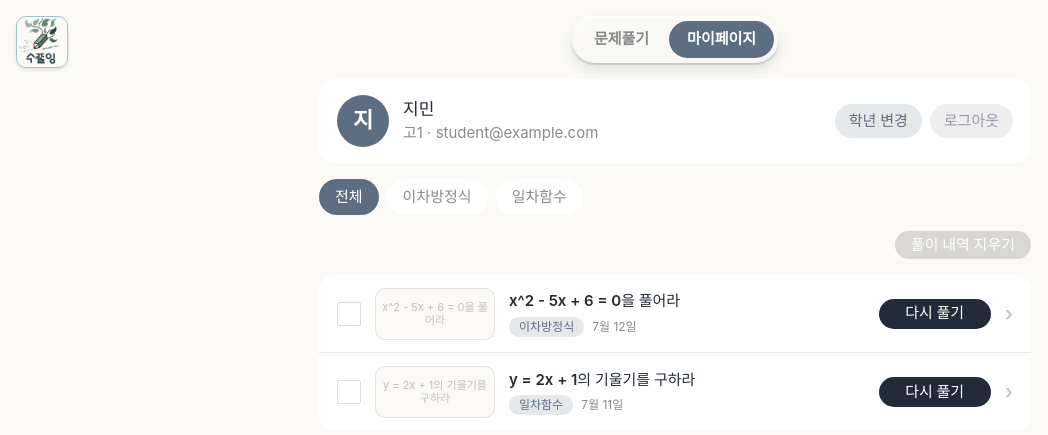
MyPage › 필터 Pill을 선택하면 해당 개념 태그의 기록만 남는다
Check: the text "y = 2x + 1의 기울기를 구하라" is shown 2 times, box [375,366,495,418]; [509,370,695,389]
Step 1. Click the button "이차방정식" → coordinates (437, 197), box [387,178,488,215]
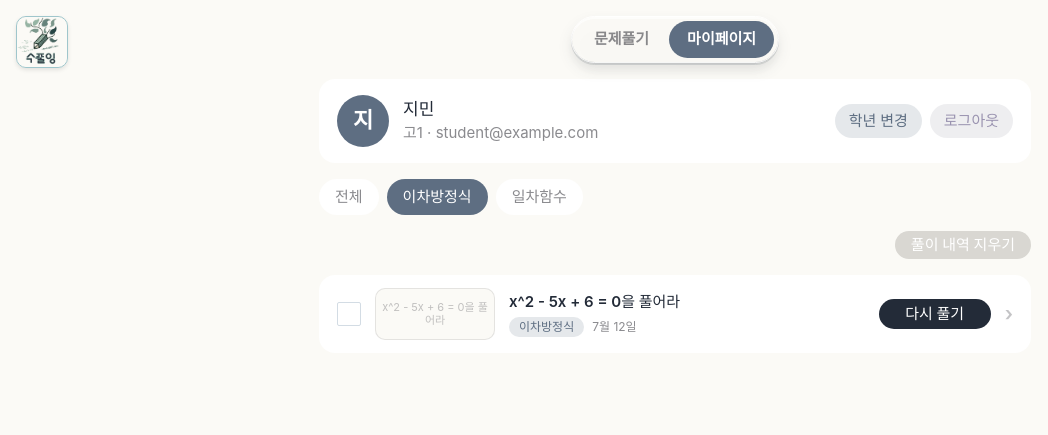
Check: the text "x^2 - 5x + 6 = 0을 풀어라" is shown 2 times, box [375,288,495,340]; [509,292,680,311]
Check: the button "y = 2x + 1의 기울기를 구하라" is gone
